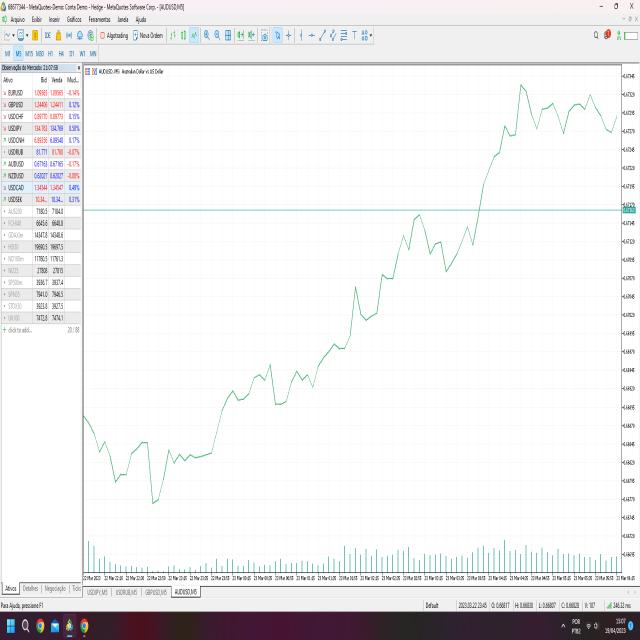oco: (392, 204, 448, 294)
